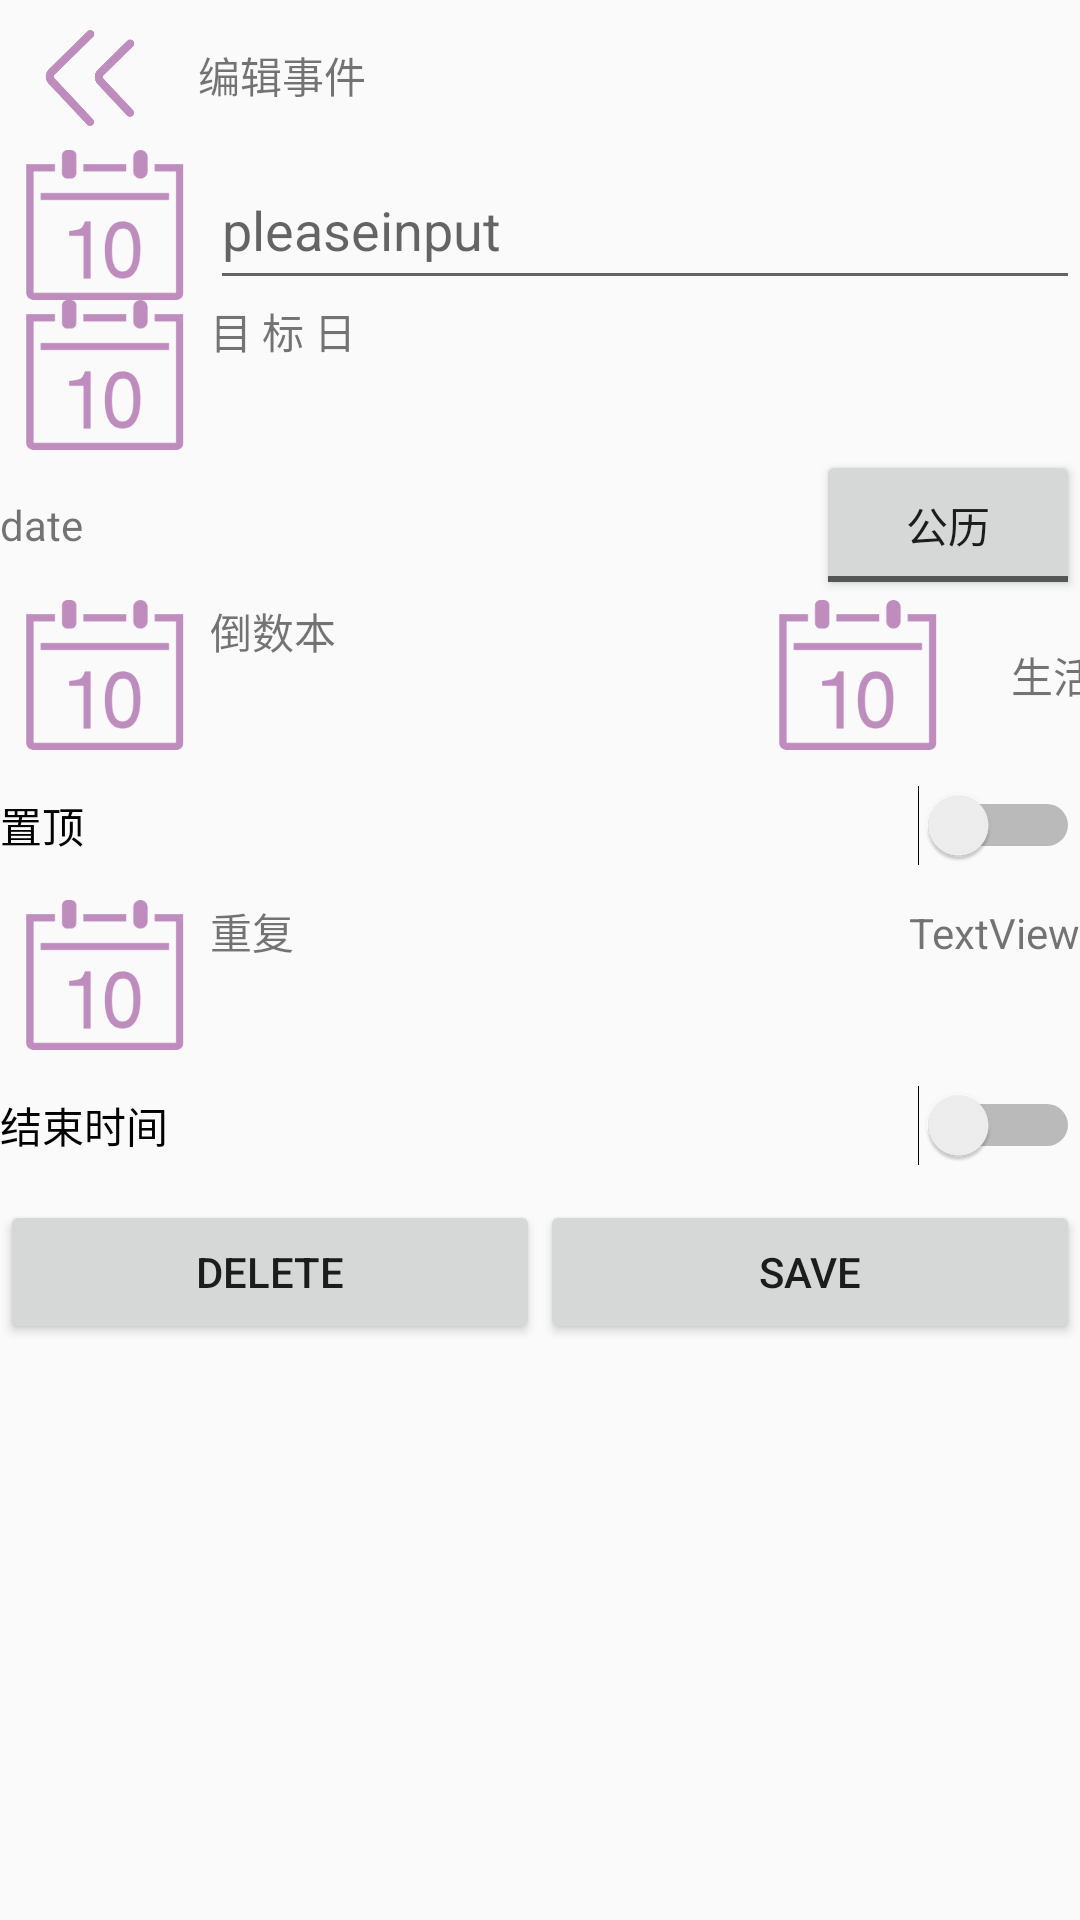

Icon bounding boxes for this 1080*1920 phone screenshot, format (x1, y1, x2, y2):
back: (46, 30, 134, 126)
event: (40, 150, 169, 279), (26, 314, 183, 450), (26, 600, 183, 750), (779, 600, 936, 750), (26, 900, 183, 1050)
